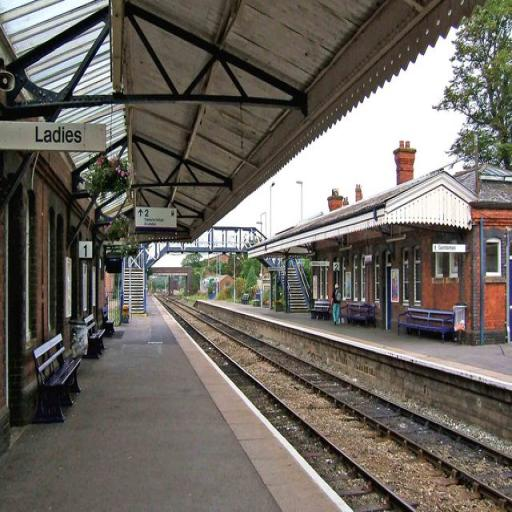platform_edge: (166, 327, 387, 512)
